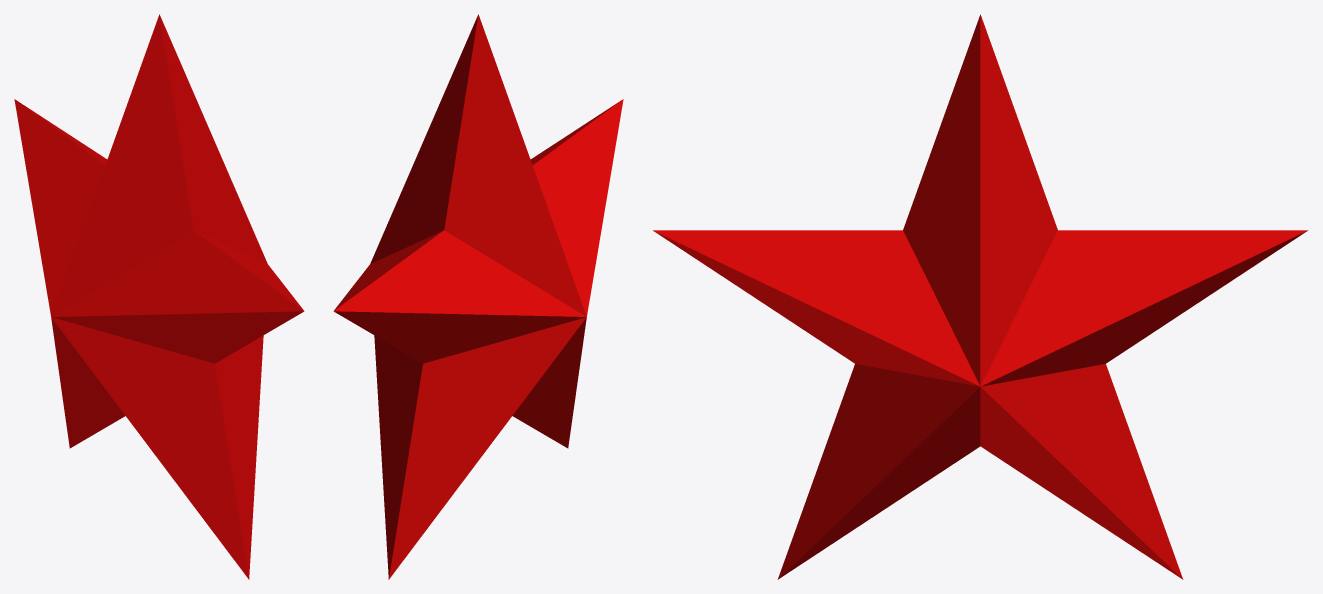
Rendered from DBStar.glb.
The picture shows the model from 3 angles, left to right: view 1: azimuth 30°, elevation 25°; view 2: azimuth 150°, elevation 25°; view 3: azimuth 270°, elevation 25°; orthographic projection. The views are drawn at different scales.
Parts seen in each view (by area): view 1: DBStar; view 2: DBStar; view 3: DBStar.
Boxes of the visible parts, x1,y1,x2,y2 form: DBStar: [14, 14, 304, 579]; DBStar: [333, 14, 623, 579]; DBStar: [653, 14, 1307, 579].
Size of the model in its own units: 0.2028 by 0.4472 by 0.4702.
